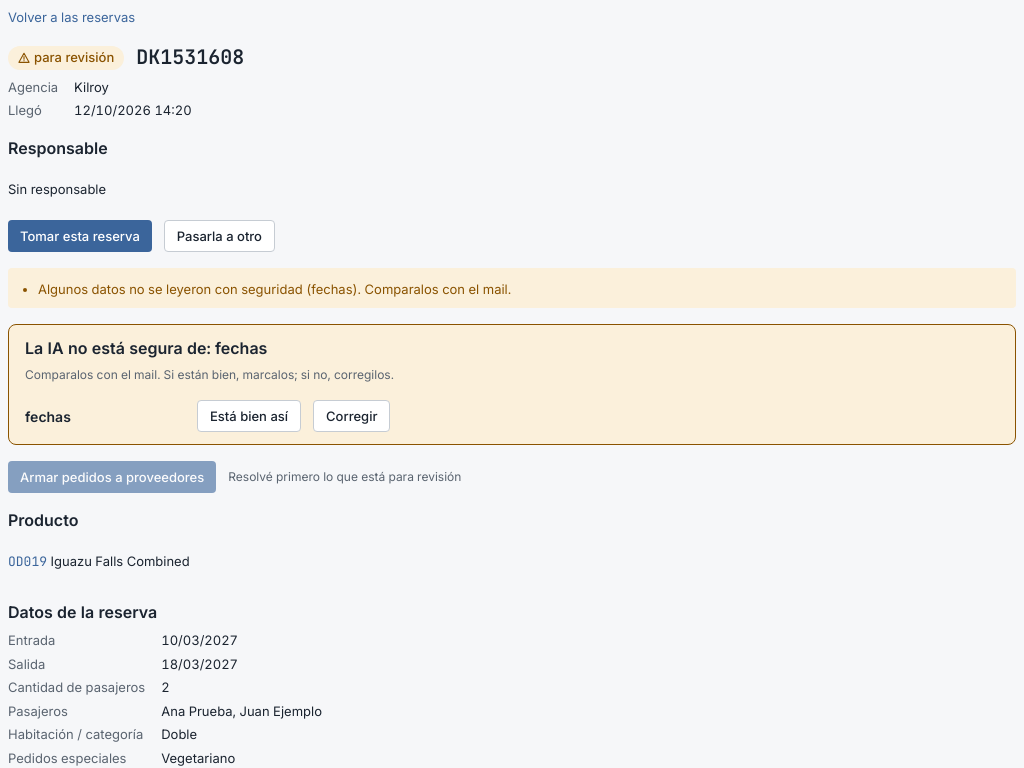
Test: Owner 2026-10-20 — corregir las fechas de un tour con partes › si cambió la duración, el 'Listo' lleva el aviso de revisar las partes
The image size is (1024, 768).
Click the button "Corregir": (352, 416) [313,400,390,432]
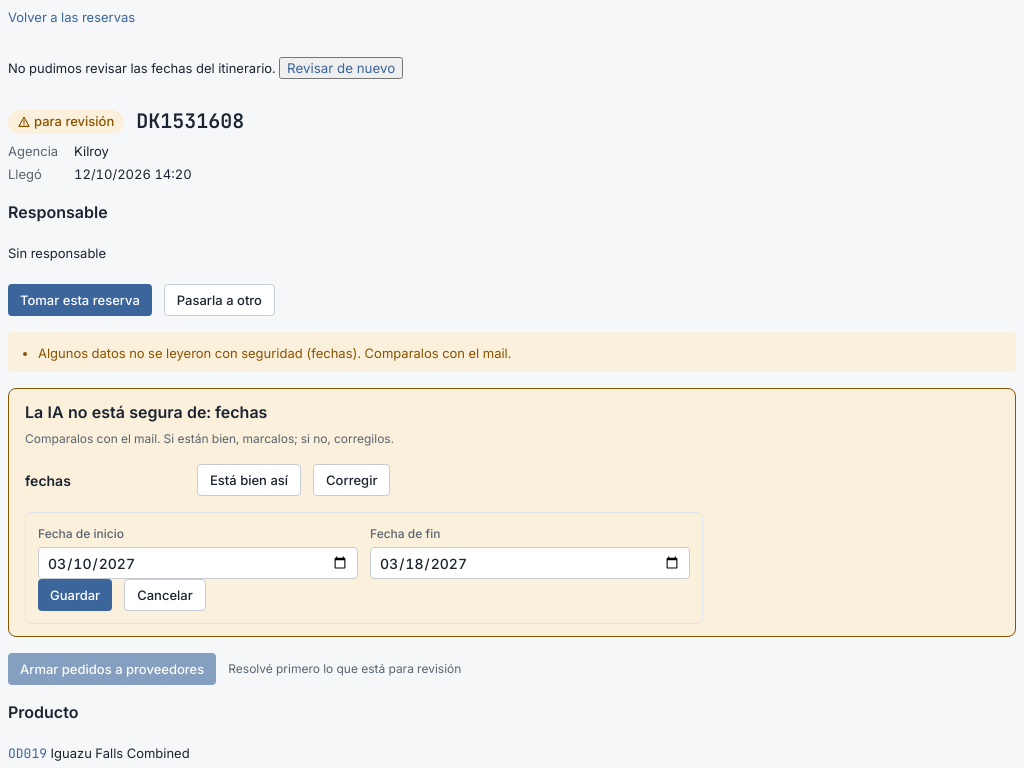
In the date field labelled "Fecha de fin": (530, 563) [370,547,690,579], type "2027-03-19"
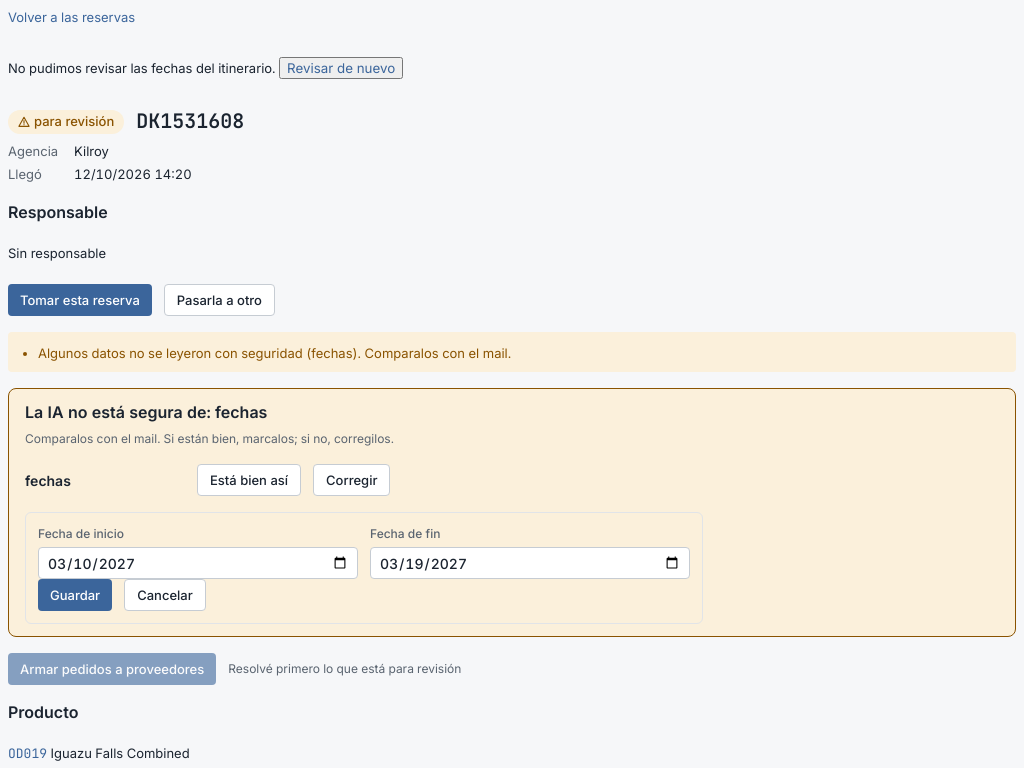
Click the button "Guardar": (75, 595) [38,579,112,611]
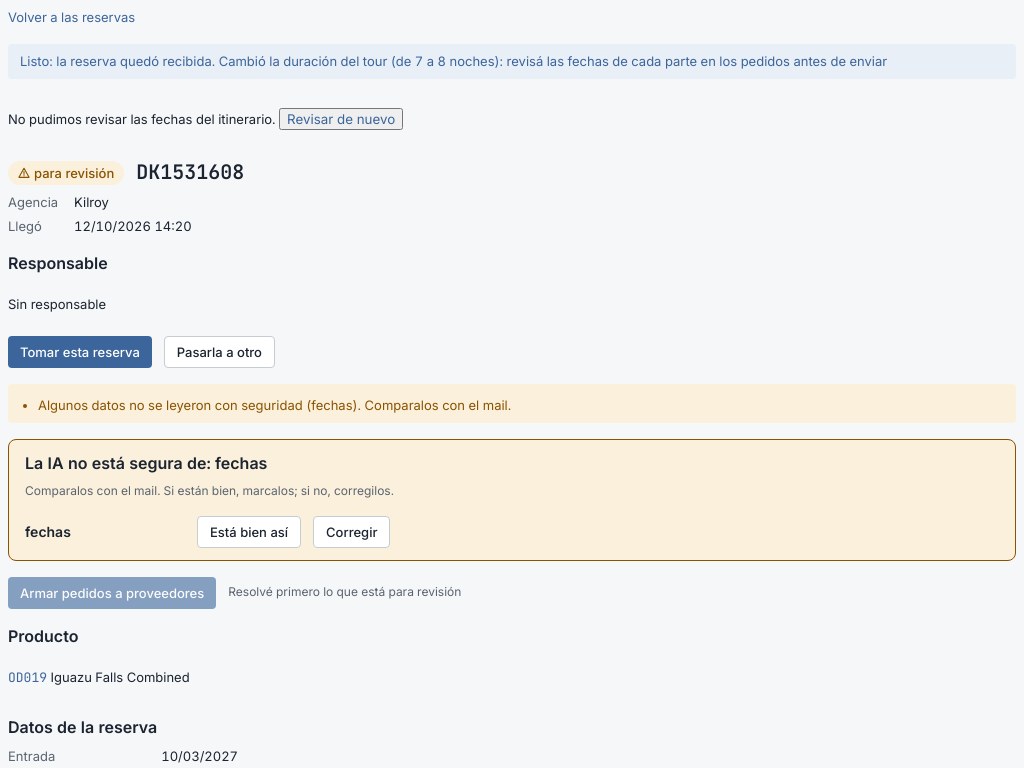
expect the text with test id "producto-confirmado" shows "Listo: la reserva quedó recibida.": met, box [20,52,887,68]
